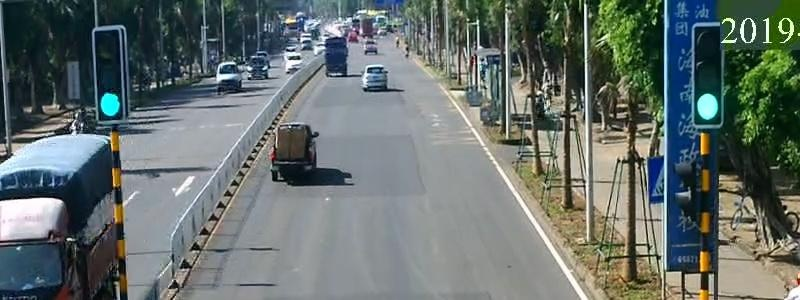green: (683, 88, 734, 130), (93, 86, 134, 128)
